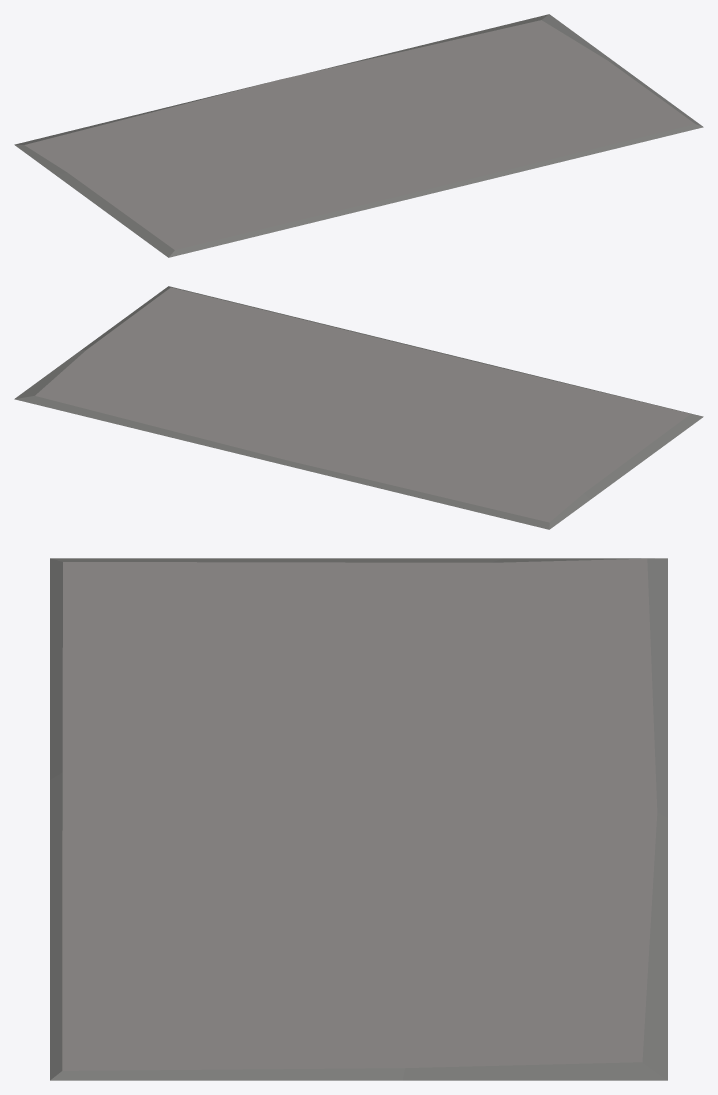
File: SM_Gen_Env_Sidewalk_Half_01.fbx
The picture shows the model from 3 angles, top to bottom: view 1: azimuth 30°, elevation 25°; view 2: azimuth 150°, elevation 25°; view 3: azimuth 270°, elevation 25°; orthographic projection. The views are drawn at different scales.
Parts seen in each view (by area): view 1: SM_Gen_Env_Sidewalk_Half_01; view 2: SM_Gen_Env_Sidewalk_Half_01; view 3: SM_Gen_Env_Sidewalk_Half_01.
Part boxes in pixels (box(x1,y1,x2,y2)): SM_Gen_Env_Sidewalk_Half_01: box(14, 14, 703, 257); SM_Gen_Env_Sidewalk_Half_01: box(14, 286, 703, 529); SM_Gen_Env_Sidewalk_Half_01: box(50, 558, 667, 1080).
Size of the model in its own units: 250 by 1.31 by 125.
